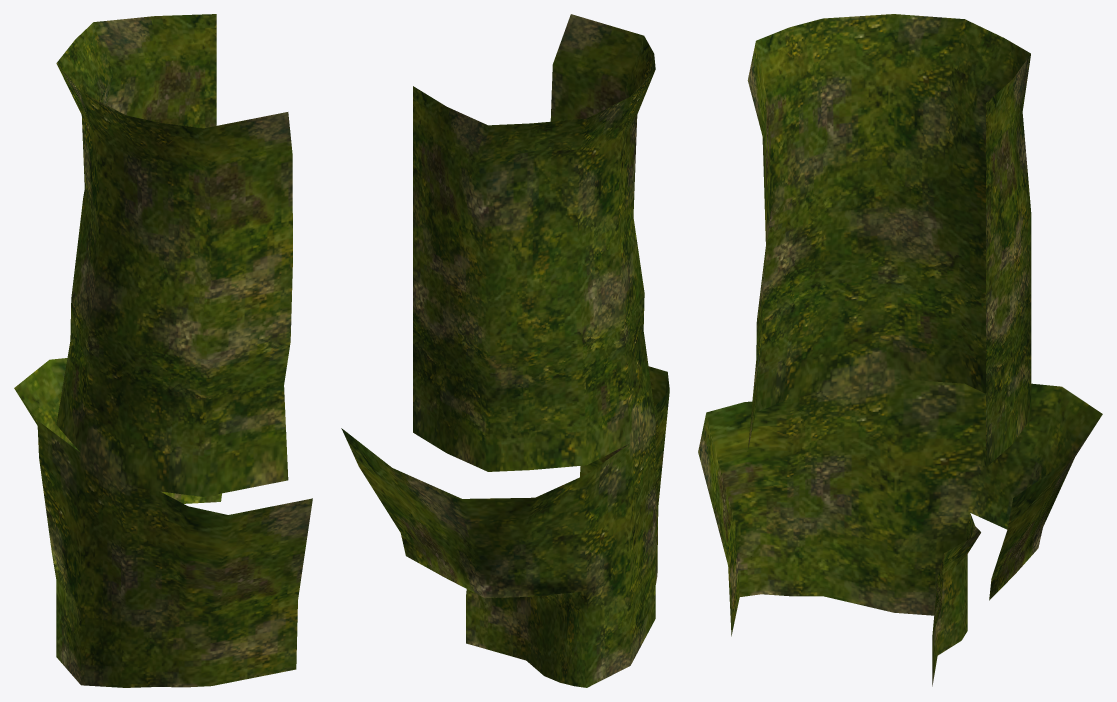
Rendered from OVERHILL_A_01_CLIMB_PILLAR_001.fbx.
3 views of the same model, side by side, from view 1: azimuth 30°, elevation 25°; view 2: azimuth 150°, elevation 25°; view 3: azimuth 270°, elevation 25° (orthographic). The views are drawn at different scales.
Visible parts, largest first — view 1: OVERHILL_A_01_CLIMB_PILLAR_001; view 2: OVERHILL_A_01_CLIMB_PILLAR_001; view 3: OVERHILL_A_01_CLIMB_PILLAR_001.
Boxes of the visible parts, box(x1,y1,x2,y2) form: OVERHILL_A_01_CLIMB_PILLAR_001: box(14, 14, 312, 687); OVERHILL_A_01_CLIMB_PILLAR_001: box(341, 14, 669, 687); OVERHILL_A_01_CLIMB_PILLAR_001: box(698, 14, 1102, 686).
Size of the model in its own units: 30061 by 70268 by 43049.
1 material, 1 textured.
